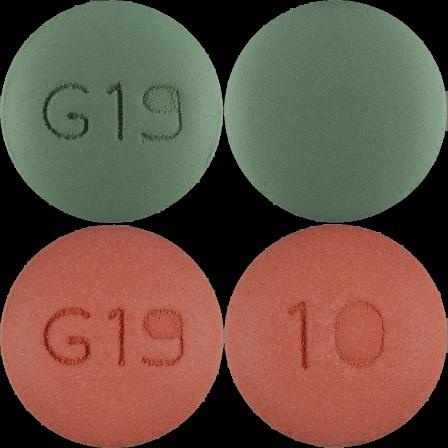68462-233: (0, 0, 224, 224)
